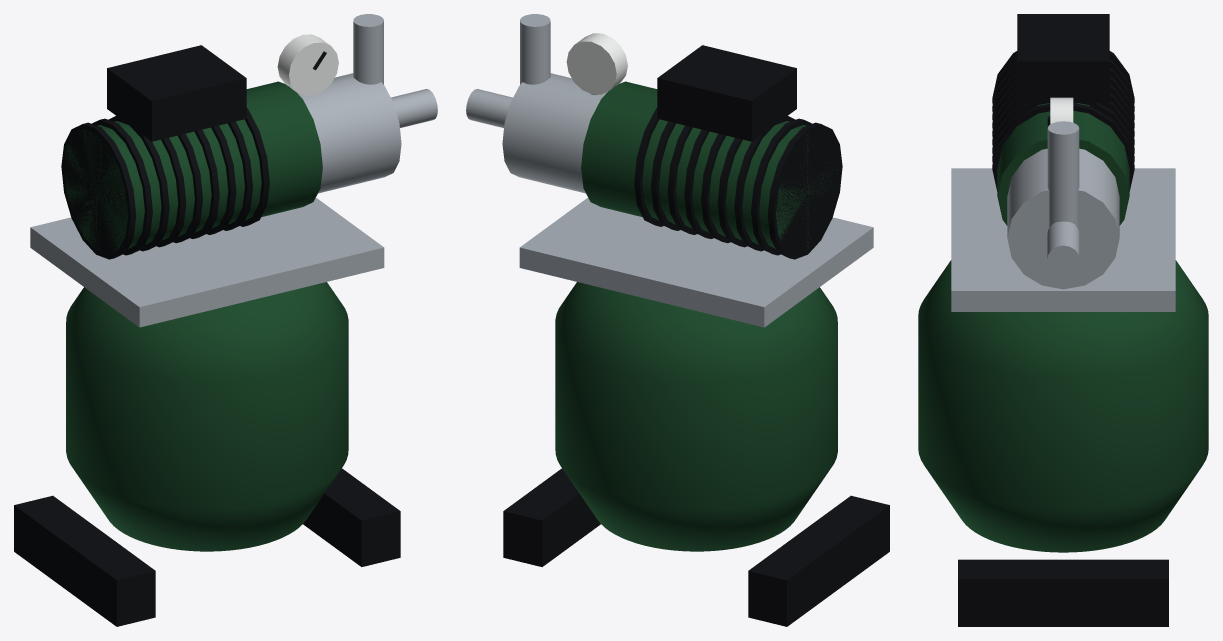
Rendered from Hazi_vizszivattyu.obj.
The picture shows the model from 3 angles, left to right: view 1: azimuth 30°, elevation 25°; view 2: azimuth 150°, elevation 25°; view 3: azimuth 270°, elevation 25°; orthographic projection. The views are drawn at different scales.
Size of the model in its own units: 0.655 by 0.85 by 0.44.
